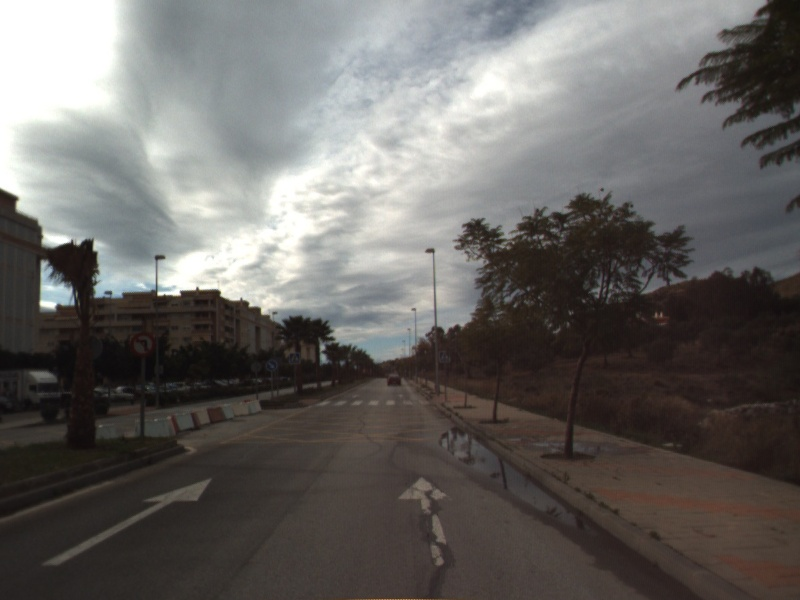STRAIGHT: (38, 476, 215, 569), (395, 475, 455, 568)
